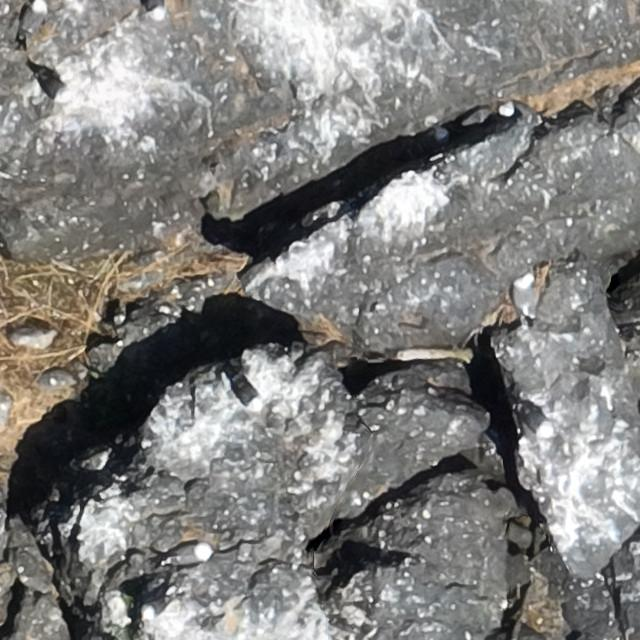umineko: (520, 404, 552, 431), (513, 277, 534, 316), (38, 74, 68, 101), (232, 381, 260, 409), (171, 544, 210, 563), (22, 2, 44, 34), (143, 597, 169, 616), (506, 104, 536, 120)
